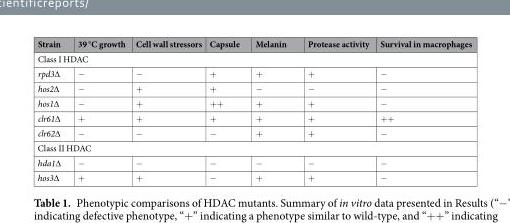table: (36, 37, 471, 183)
table column: (373, 37, 471, 183), (296, 37, 373, 183), (129, 37, 204, 183), (68, 37, 129, 183), (246, 37, 296, 183), (204, 37, 246, 183), (36, 37, 68, 183)
table column header: (36, 37, 471, 50)
table projected row header: (36, 50, 471, 65), (36, 140, 471, 154)
table row: (36, 50, 471, 65), (36, 65, 471, 80), (36, 80, 471, 95), (36, 95, 471, 110), (36, 110, 471, 125), (36, 125, 471, 140), (36, 154, 471, 169), (36, 140, 471, 154), (36, 169, 471, 183), (36, 37, 471, 50)
